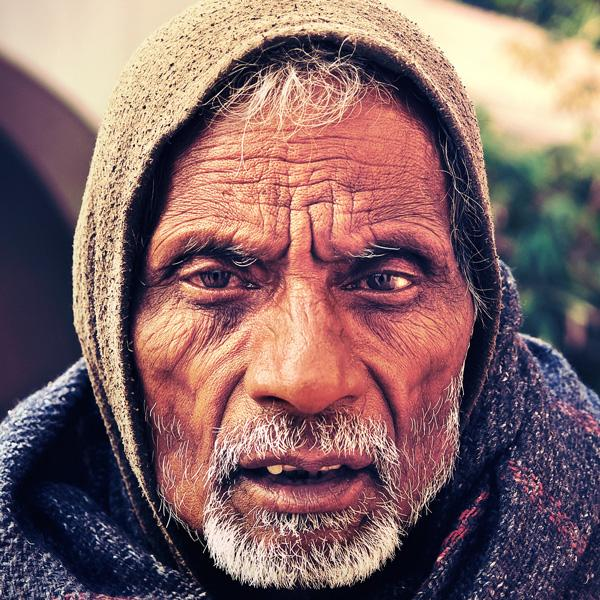Eyes: (161, 245, 269, 310), (335, 254, 432, 305)
